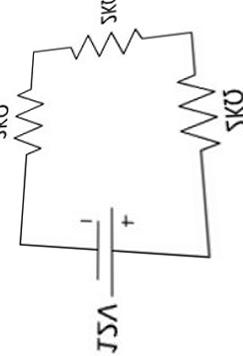resistor: (171, 59, 223, 166), (58, 18, 147, 68), (14, 73, 52, 160)
